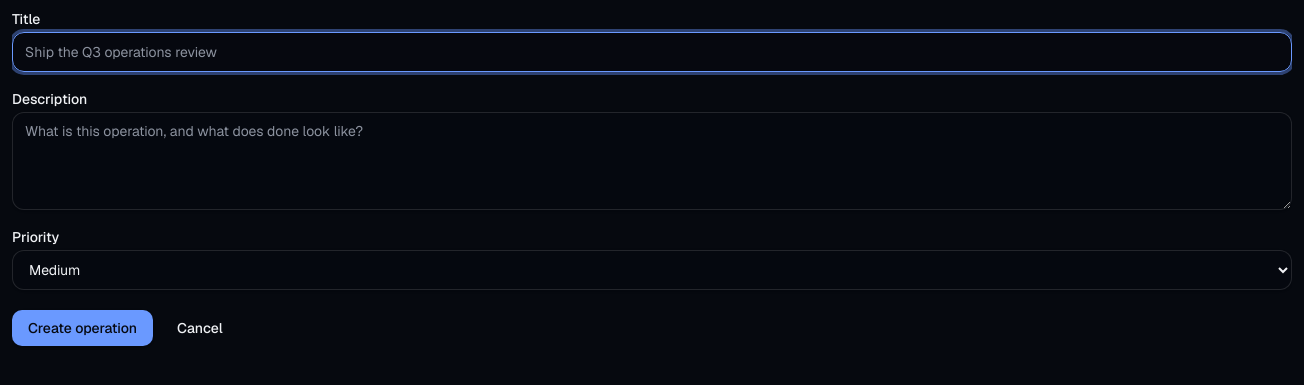
OperationForm › shows a validation error when submitting without a title
Click the button "Create operation" at (83, 328), box left=12, top=310, right=153, bottom=346
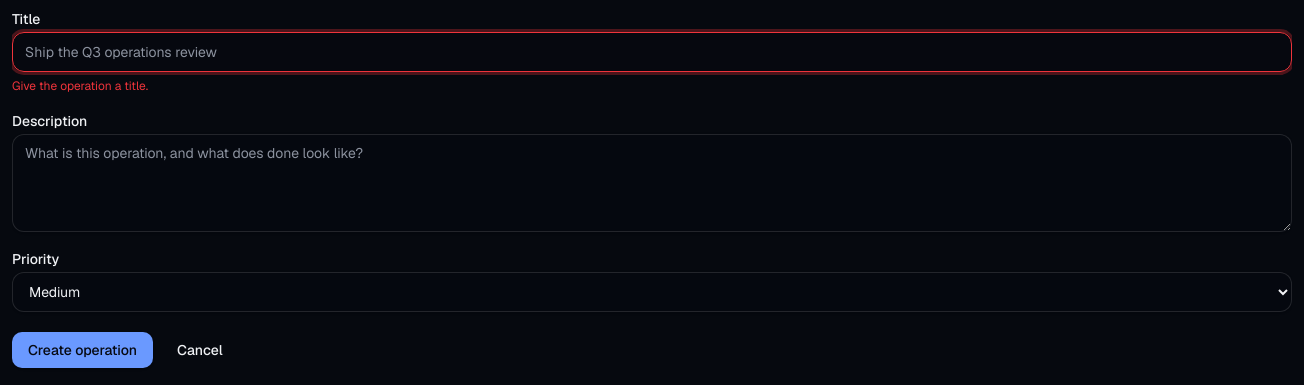
Expected: the text "Give the operation a title." is shown, left=12, top=78, right=148, bottom=94
